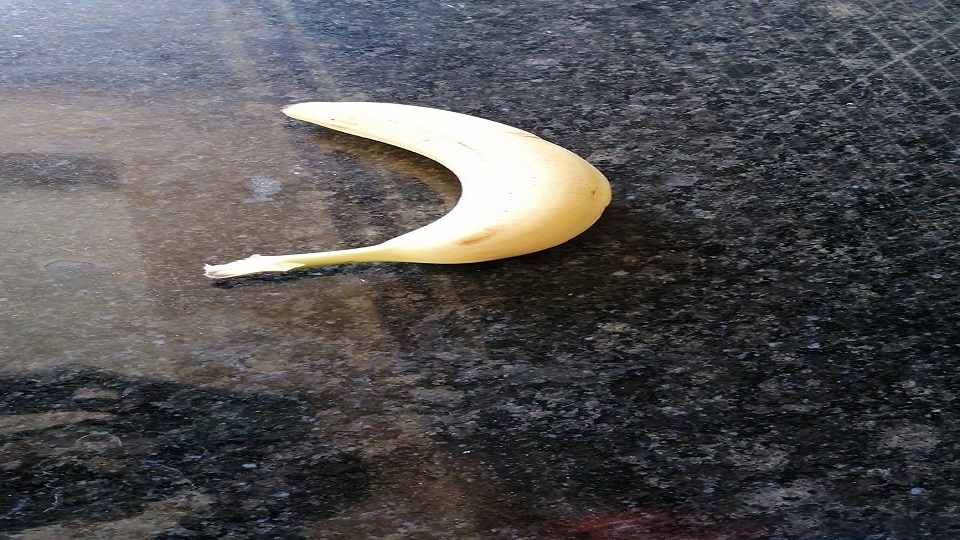muz: (204, 100, 613, 276)
